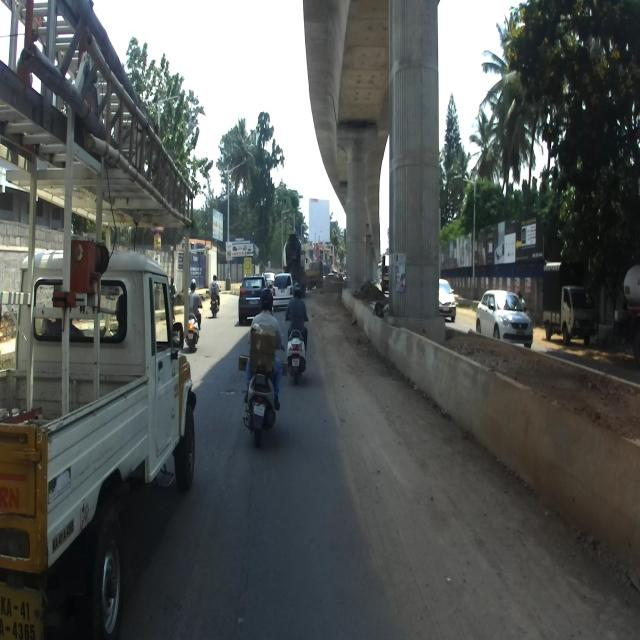Car_Hyundai: (235, 271, 269, 322), (272, 271, 296, 308)
Car_Maruti-Suzuki: (473, 285, 533, 353)
scooter: (237, 324, 288, 448), (287, 321, 310, 387), (184, 310, 204, 354)
truck: (0, 0, 196, 639), (542, 261, 597, 348)
